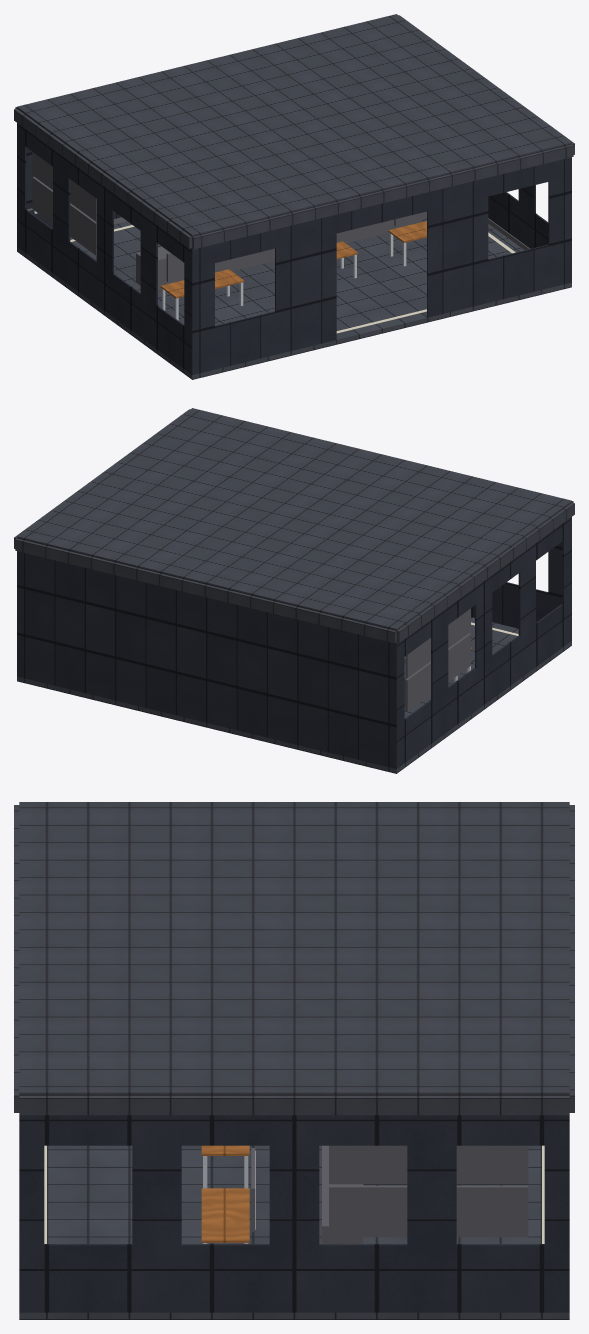
Rendered from spaces-int-ops.glb.
3 renders of one model, top to bottom at view 1: azimuth 30°, elevation 25°; view 2: azimuth 150°, elevation 25°; view 3: azimuth 270°, elevation 25°, orthographic. The views are drawn at different scales.
Visible parts, largest first — view 1: ops interior; view 2: ops interior; view 3: ops interior.
Part boxes in pixels (x1,y1,x2,y2): ops interior: [14, 14, 574, 379]; ops interior: [14, 408, 574, 773]; ops interior: [14, 802, 574, 1319].
Size of the model in its own units: 10.16 by 3.65 by 8.16.
11 materials, 5 textured.
